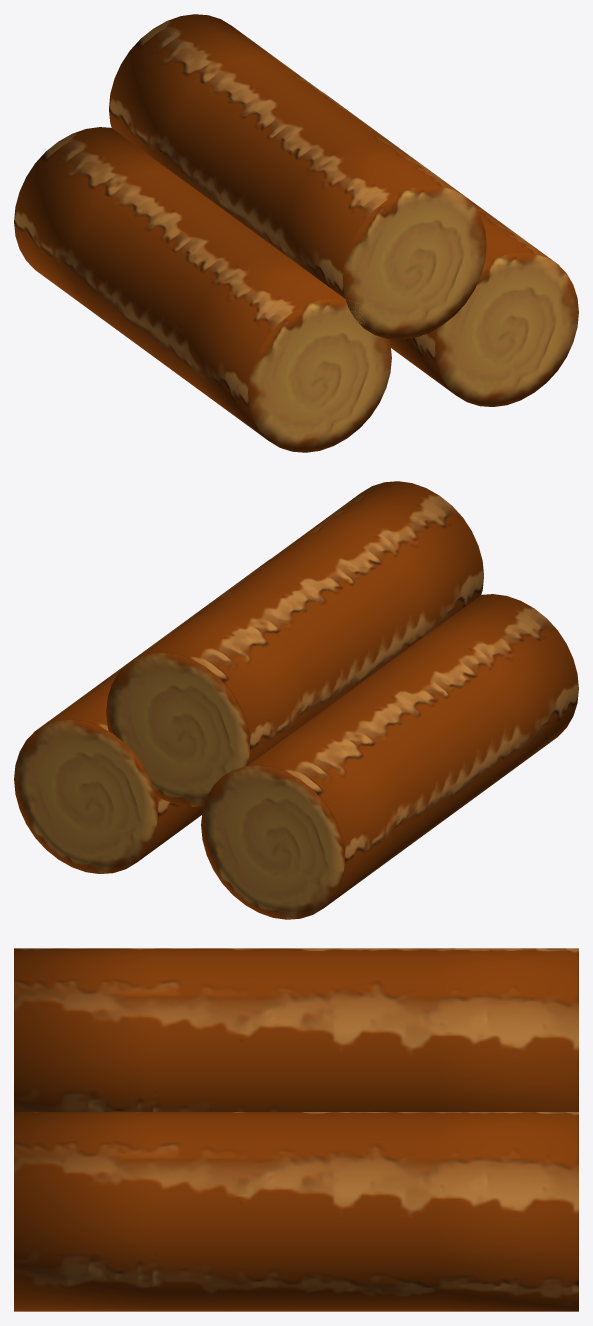
The model's file is Wood_00.fbx.
3 views of the same model, one above another, from view 1: azimuth 30°, elevation 25°; view 2: azimuth 150°, elevation 25°; view 3: azimuth 270°, elevation 25° (orthographic). The views are drawn at different scales.
Visible parts, largest first — view 1: Circle; view 2: Circle; view 3: Circle.
Part boxes in pixels (left/top/right/bottom): Circle: left=14, top=14, right=578, bottom=452; Circle: left=14, top=481, right=578, bottom=919; Circle: left=14, top=948, right=578, bottom=1311.
Size of the model in its own units: 97.77 by 67.84 by 120.
